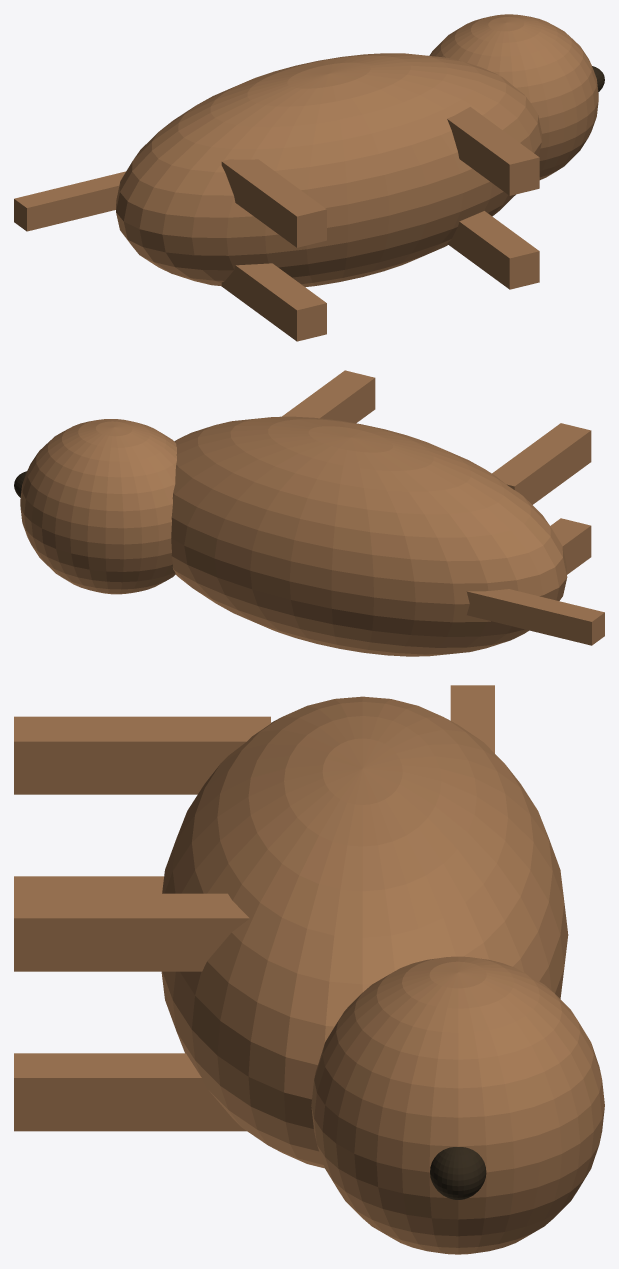
File: town-dog.glb
The picture shows the model from 3 angles, top to bottom: view 1: azimuth 30°, elevation 25°; view 2: azimuth 150°, elevation 25°; view 3: azimuth 270°, elevation 25°; orthographic projection. The views are drawn at different scales.
Parts seen in each view (by area): view 1: Body, Head, Leg.001, Leg, Leg.003, Leg.002, Tail; view 2: Body, Head, Tail, Leg.001, Leg.003, Leg; view 3: Body, Head, Leg.001, Leg.003, Leg.002, Leg, Nose, Tail.
Boxes of the visible parts, x1=… form: Body: x1=116, y1=53, x2=541, y2=287; Head: x1=429, y1=14, x2=598, y2=179; Leg.001: x1=221, y1=159, x2=326, y2=247; Leg: x1=221, y1=263, x2=326, y2=341; Leg.003: x1=447, y1=107, x2=539, y2=195; Leg.002: x1=447, y1=211, x2=539, y2=289; Tail: x1=14, y1=171, x2=125, y2=231; Body: x1=171, y1=416, x2=567, y2=656; Head: x1=20, y1=419, x2=176, y2=594; Tail: x1=466, y1=589, x2=604, y2=645; Leg.001: x1=492, y1=423, x2=591, y2=504; Leg.003: x1=282, y1=370, x2=375, y2=423; Leg: x1=550, y1=518, x2=591, y2=574; Body: x1=161, y1=696, x2=568, y2=1168; Head: x1=311, y1=956, x2=604, y2=1254; Leg.001: x1=14, y1=716, x2=270, y2=794; Leg.003: x1=14, y1=893, x2=249, y2=971; Leg.002: x1=14, y1=1053, x2=246, y2=1131; Leg: x1=14, y1=876, x2=163, y2=893; Nose: x1=430, y1=1147, x2=486, y2=1199; Tail: x1=450, y1=685, x2=494, y2=753.
Bounding box in the file's own units: 1.55 × 0.5 × 0.805.
